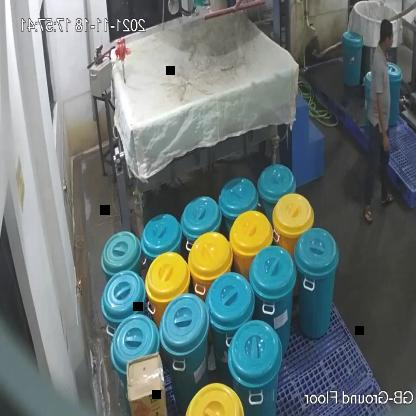no_shoes: (363, 203, 374, 225)
